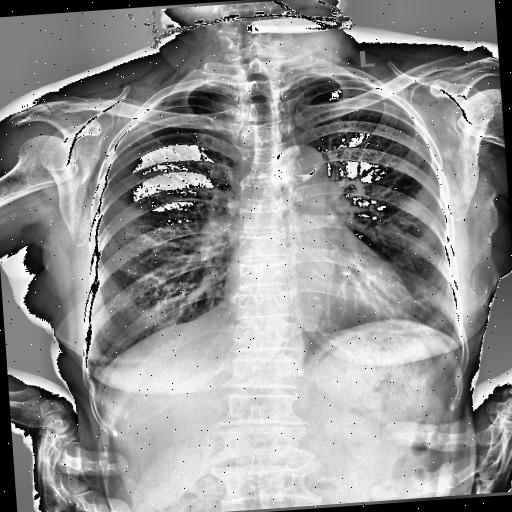0- Aortic enlargement: (268, 141, 330, 195), (276, 144, 330, 194), (282, 143, 329, 179)
2- Calcification: (295, 163, 323, 183)
3- Cardiomegaly: (220, 254, 418, 332), (219, 268, 423, 338)
